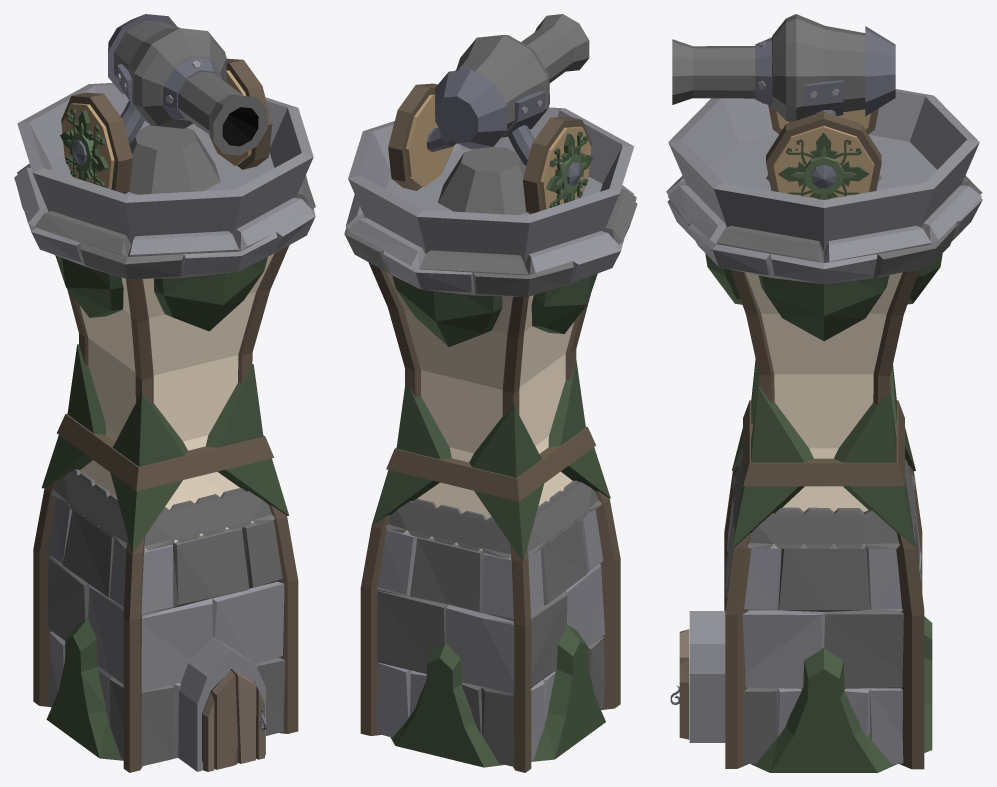
Rendered from _Cannon_tower_LVL_2.fbx.
The picture shows the model from 3 angles, left to right: view 1: azimuth 30°, elevation 25°; view 2: azimuth 150°, elevation 25°; view 3: azimuth 270°, elevation 25°; orthographic projection. The views are drawn at different scales.
Visible parts, largest first — view 1: Cannon_tower_LVL_2.001, Cannon_tower_LVL_2; view 2: Cannon_tower_LVL_2.001, Cannon_tower_LVL_2; view 3: Cannon_tower_LVL_2.001, Cannon_tower_LVL_2.
Part boxes in pixels (left/top/right/bottom): Cannon_tower_LVL_2.001: left=14, top=82, right=315, bottom=772; Cannon_tower_LVL_2: left=60, top=14, right=272, bottom=193; Cannon_tower_LVL_2.001: left=344, top=107, right=637, bottom=772; Cannon_tower_LVL_2: left=388, top=14, right=592, bottom=214; Cannon_tower_LVL_2.001: left=666, top=89, right=982, bottom=772; Cannon_tower_LVL_2: left=672, top=14, right=895, bottom=199.
Size of the model in its own units: 604 by 1488 by 603.
